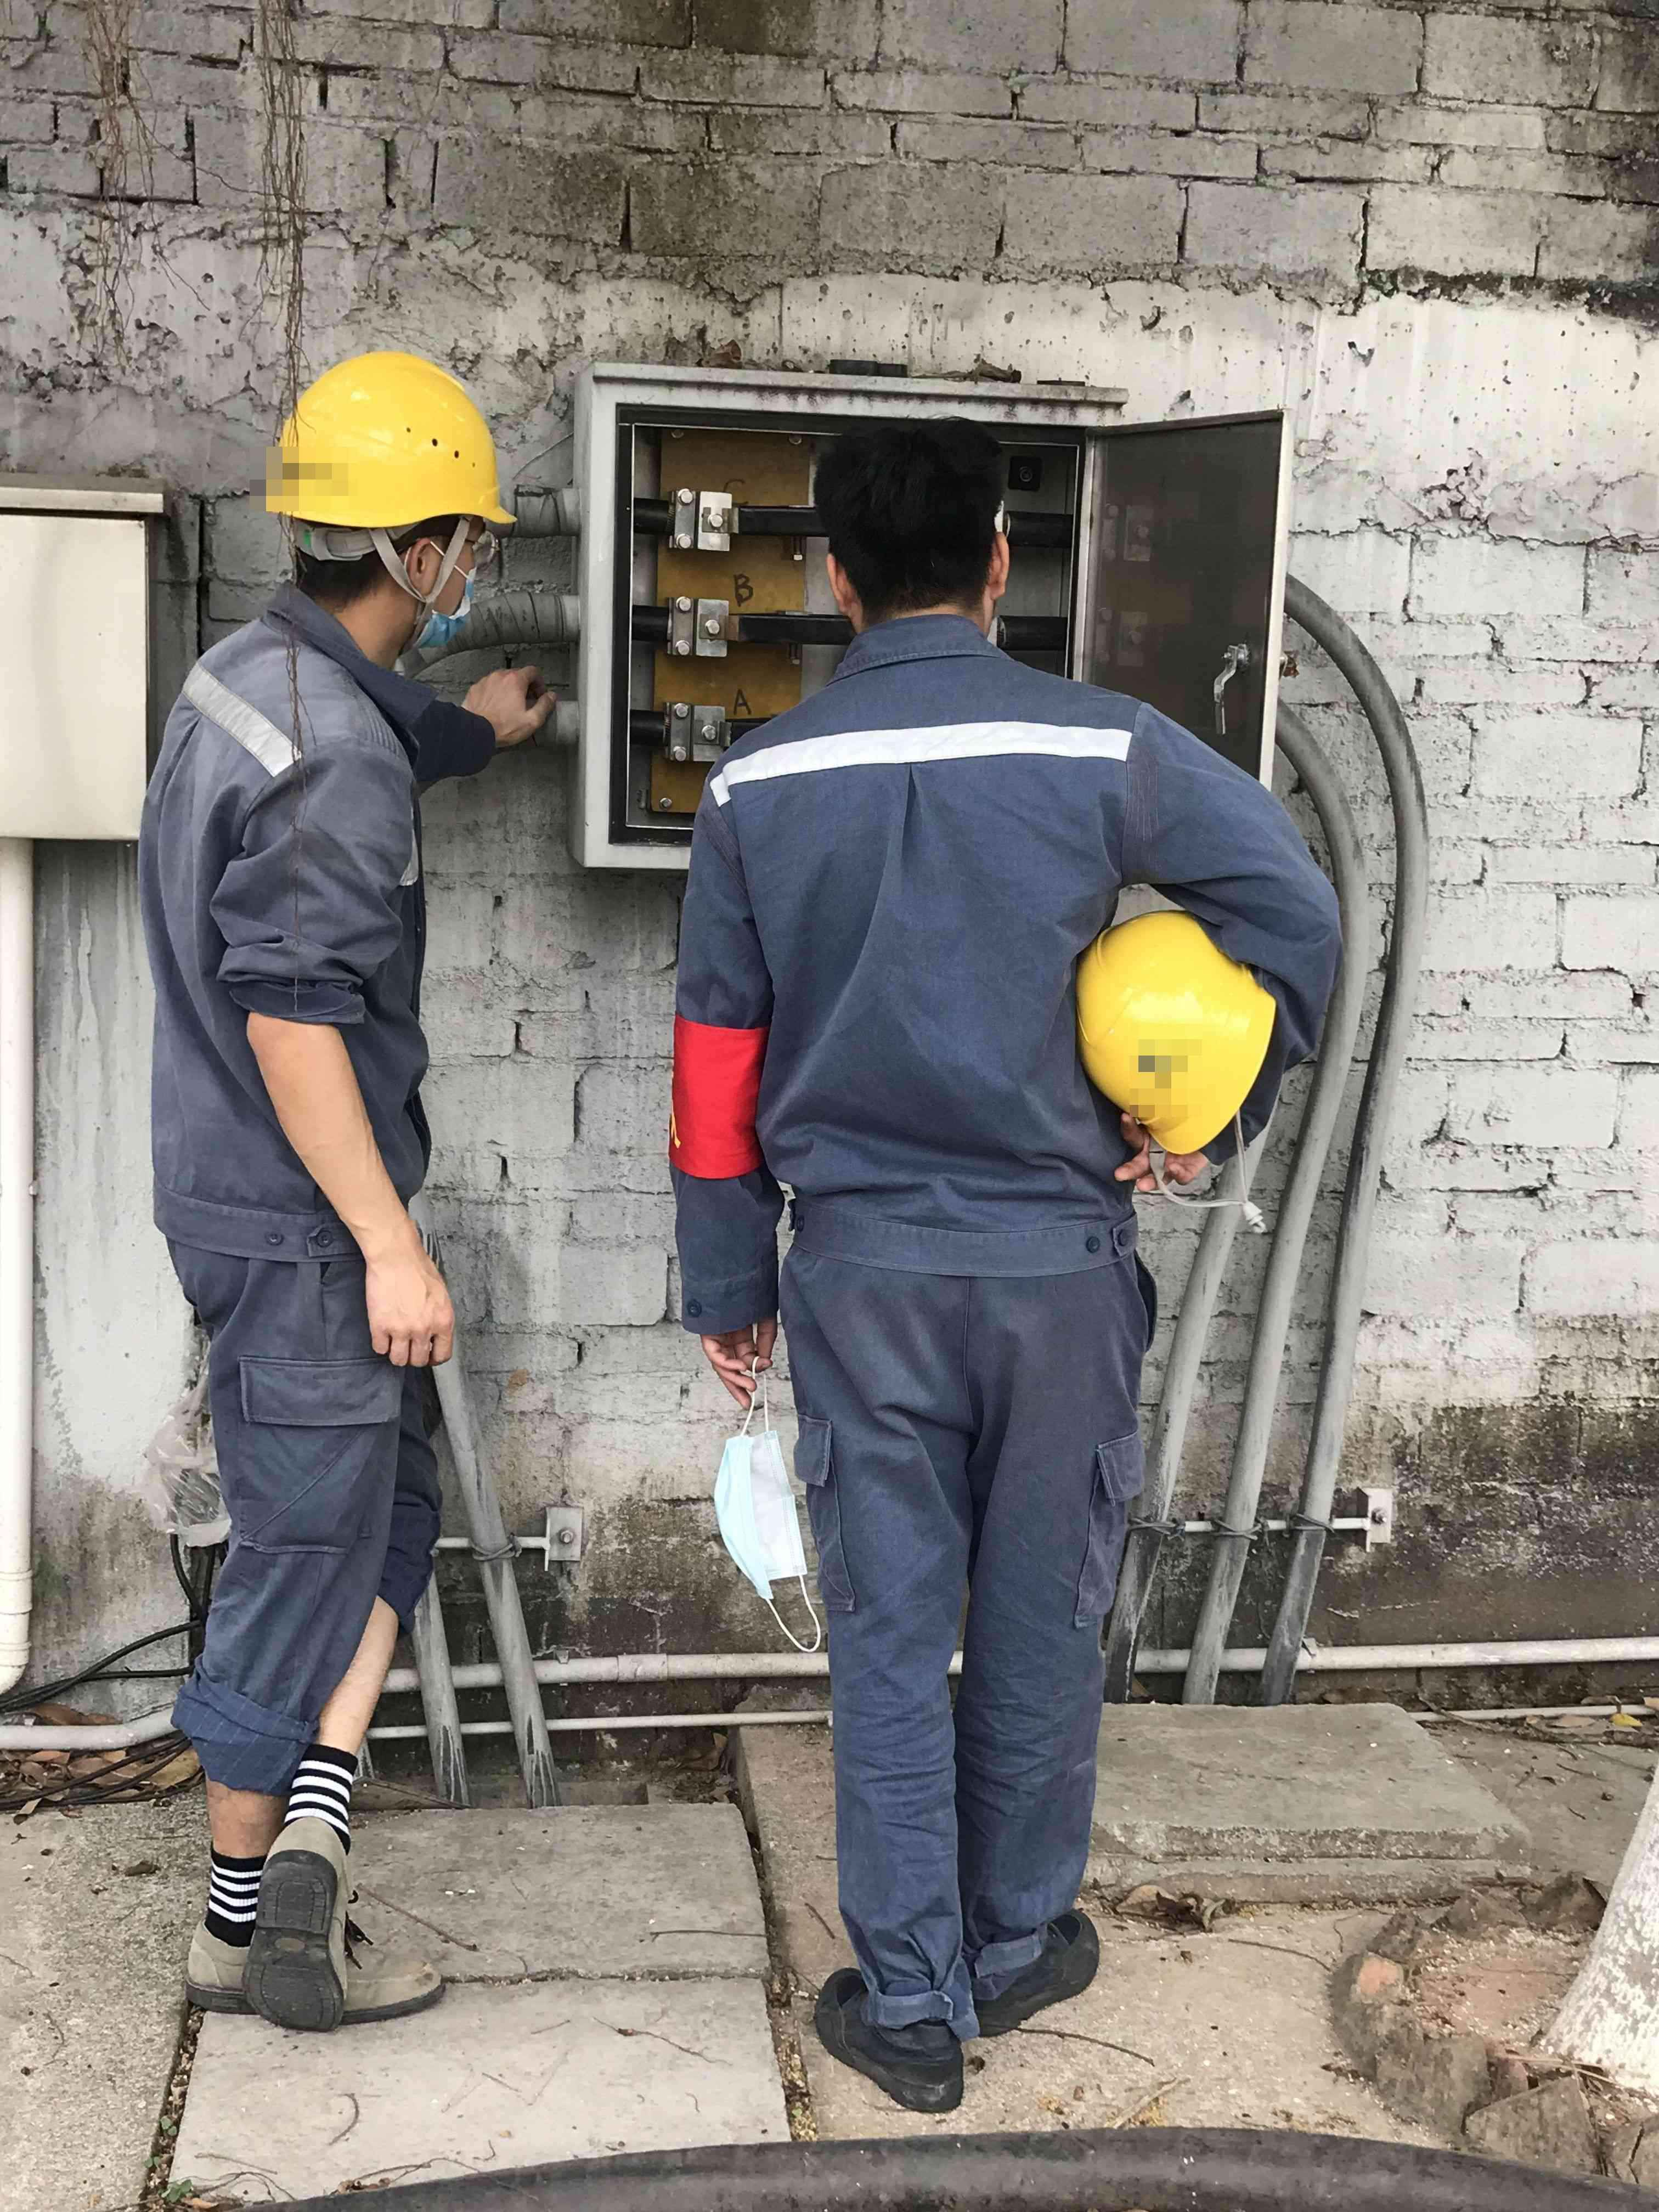downsuit: (772, 1247, 1166, 2047), (155, 1235, 455, 1804)
upsuit: (662, 613, 1351, 1341), (139, 590, 500, 1270)
wrongbottom: (162, 1656, 324, 1853), (310, 1543, 439, 1754)
wrongtop: (234, 961, 465, 1376)
